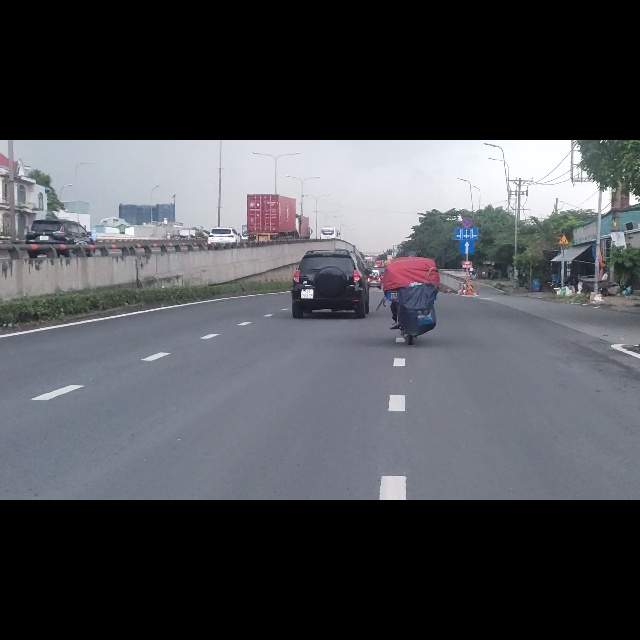bien_nguy_hiem: (460, 177, 475, 202), (462, 137, 473, 156), (558, 168, 569, 185)
